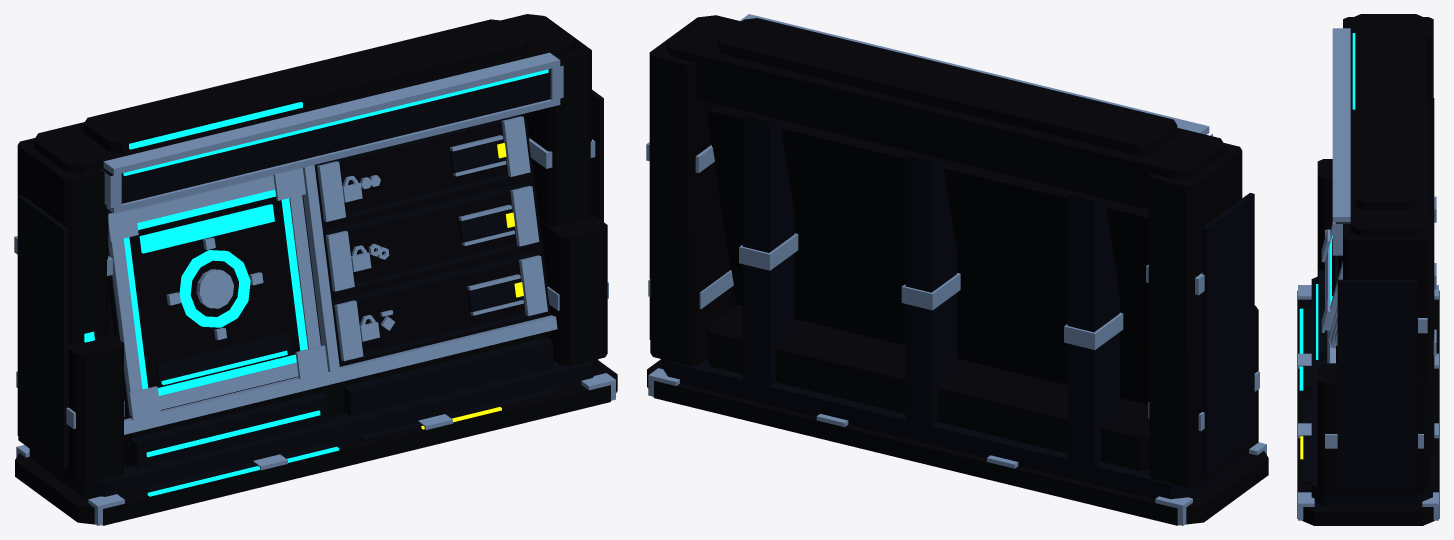
The model's file is SM_Hub_ModeBoard_01.glb.
3 renders of one model, left to right at view 1: azimuth 30°, elevation 25°; view 2: azimuth 150°, elevation 25°; view 3: azimuth 270°, elevation 25°, orthographic. The views are drawn at different scales.
Parts seen in each view (by area): view 1: GEO_ModeBoard_CommandMatrixFrame, GEO_ModeBoard_BaseUpperTier, GEO_ModeBoard_HeaderCanopy, GEO_ModeBoard_ModeReliefs, GEO_ModeBoard_LeftButtress, GEO_ModeBoard_RightButtress, GEO_ModeBoard_UIPanel_01_FFA, GEO_ModeBoard_BasePlinth, GEO_ModeBoard_CyanAccents, GEO_ModeBoard_ActiveModeReticle, GEO_ModeBoard_HeaderSign, GEO_ModeBoard_LockReliefs (+5 smaller); view 2: GEO_ModeBoard_MainChassis, GEO_ModeBoard_HeaderCanopy, GEO_ModeBoard_BaseUpperTier, GEO_ModeBoard_BasePlinth, GEO_ModeBoard_LeftButtress, GEO_ModeBoard_RightButtress, GEO_ModeBoard_CommandMatrixFrame, GEO_ModeBoard_SideCollars, GEO_ModeBoard_ModeReliefs; view 3: GEO_ModeBoard_CommandMatrixFrame, GEO_ModeBoard_HeaderCanopy, GEO_ModeBoard_RightButtress, GEO_ModeBoard_BaseUpperTier, GEO_ModeBoard_BasePlinth, GEO_ModeBoard_ModeReliefs, GEO_ModeBoard_LeftButtress, GEO_ModeBoard_SideCollars, GEO_ModeBoard_CyanAccents, GEO_ModeBoard_ActiveModeReticle.
Boxes of the visible parts, x1,y1,x2,y2 form: GEO_ModeBoard_CommandMatrixFrame: [17, 90, 603, 469]; GEO_ModeBoard_BaseUpperTier: [29, 337, 598, 498]; GEO_ModeBoard_HeaderCanopy: [33, 14, 575, 175]; GEO_ModeBoard_ModeReliefs: [100, 52, 563, 434]; GEO_ModeBoard_LeftButtress: [17, 138, 123, 483]; GEO_ModeBoard_RightButtress: [526, 16, 607, 365]; GEO_ModeBoard_UIPanel_01_FFA: [129, 196, 300, 387]; GEO_ModeBoard_BasePlinth: [15, 331, 617, 525]; GEO_ModeBoard_CyanAccents: [84, 69, 548, 496]; GEO_ModeBoard_ActiveModeReticle: [108, 168, 328, 420]; GEO_ModeBoard_HeaderSign: [111, 69, 550, 203]; GEO_ModeBoard_LockReliefs: [317, 116, 547, 360]; GEO_ModeBoard_MainChassis: [707, 104, 1149, 404]; GEO_ModeBoard_HeaderCanopy: [666, 15, 1225, 209]; GEO_ModeBoard_BaseUpperTier: [662, 115, 1248, 499]; GEO_ModeBoard_BasePlinth: [647, 305, 1268, 525]; GEO_ModeBoard_LeftButtress: [1148, 143, 1258, 487]; GEO_ModeBoard_RightButtress: [649, 17, 736, 365]; GEO_ModeBoard_CommandMatrixFrame: [649, 193, 1254, 475]; GEO_ModeBoard_SideCollars: [646, 142, 1266, 525]; GEO_ModeBoard_ModeReliefs: [740, 14, 1212, 136]; GEO_ModeBoard_CommandMatrixFrame: [1332, 238, 1417, 488]; GEO_ModeBoard_HeaderCanopy: [1350, 14, 1426, 235]; GEO_ModeBoard_RightButtress: [1317, 221, 1433, 494]; GEO_ModeBoard_BaseUpperTier: [1303, 98, 1434, 506]; GEO_ModeBoard_BasePlinth: [1297, 290, 1439, 525]; GEO_ModeBoard_ModeReliefs: [1327, 28, 1350, 363]; GEO_ModeBoard_LeftButtress: [1317, 17, 1433, 283]; GEO_ModeBoard_SideCollars: [1298, 196, 1438, 520]; GEO_ModeBoard_CyanAccents: [1299, 33, 1355, 390]; GEO_ModeBoard_ActiveModeReticle: [1321, 223, 1342, 332].
Bounding box in the file's own units: 14.4 × 8.8 × 3.8.
Materials: 5 (5 with a texture image).
